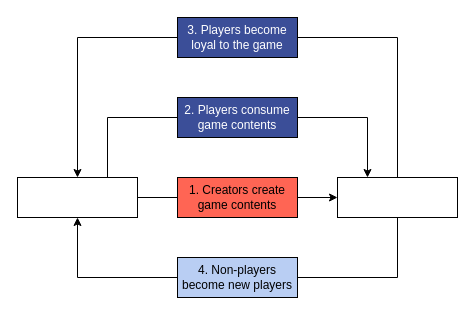
The diagram is 475 pixels wide and 315 high, and some of its shapes have lost their labels. The box of each missing label's shape, as (x1, y1, x2, y2) in pixels:
Content Platforms: (336, 176, 458, 218)
Game: (16, 176, 138, 218)
